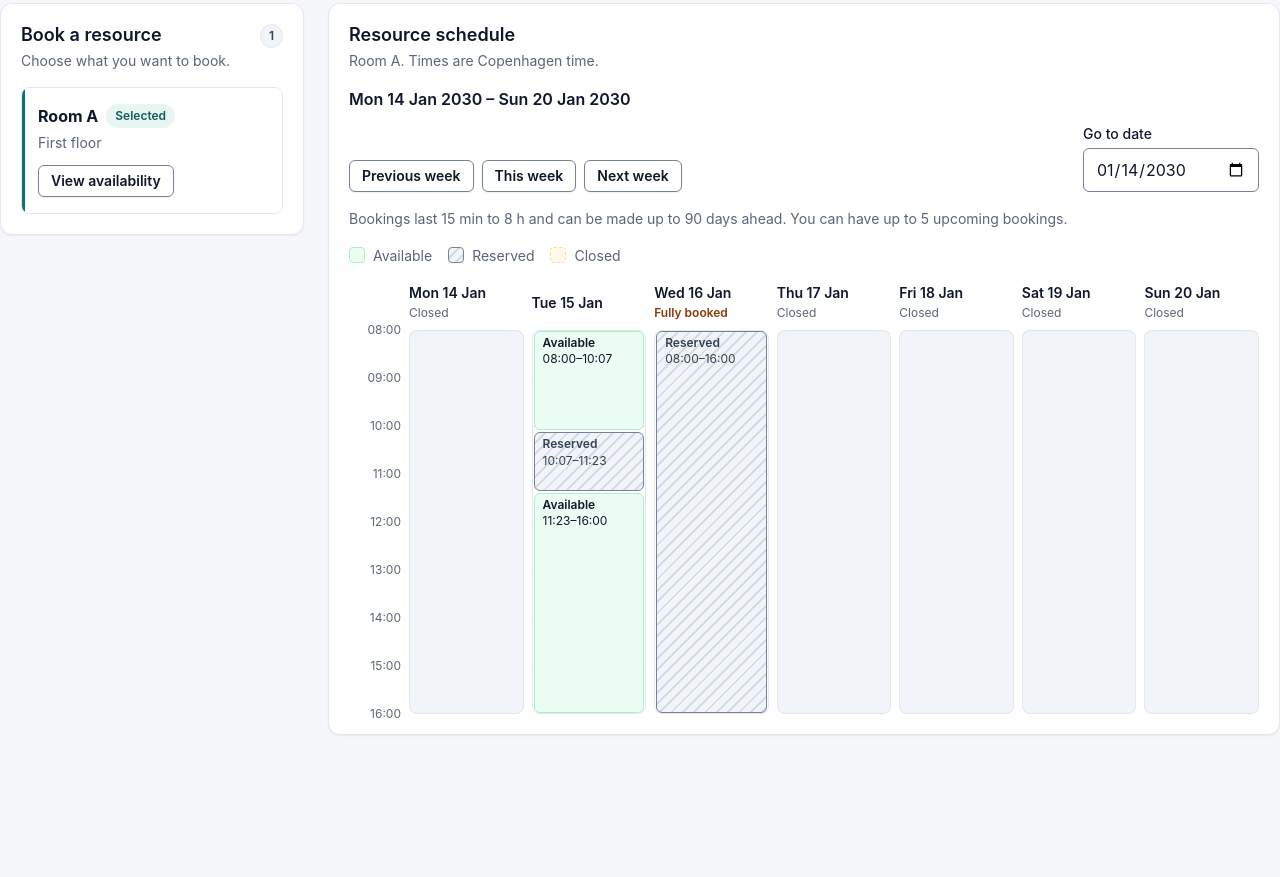
Test: BookingPage calendar › books a start and end chosen in 15-minute steps inside the free time
The width and height of the screenshot is (1280, 877).
Click the button with aria-label "Available Tue 15 Jan 2030, 08:00–10:07. Choose a time".
click(589, 380)  # box [534,331,644,430]
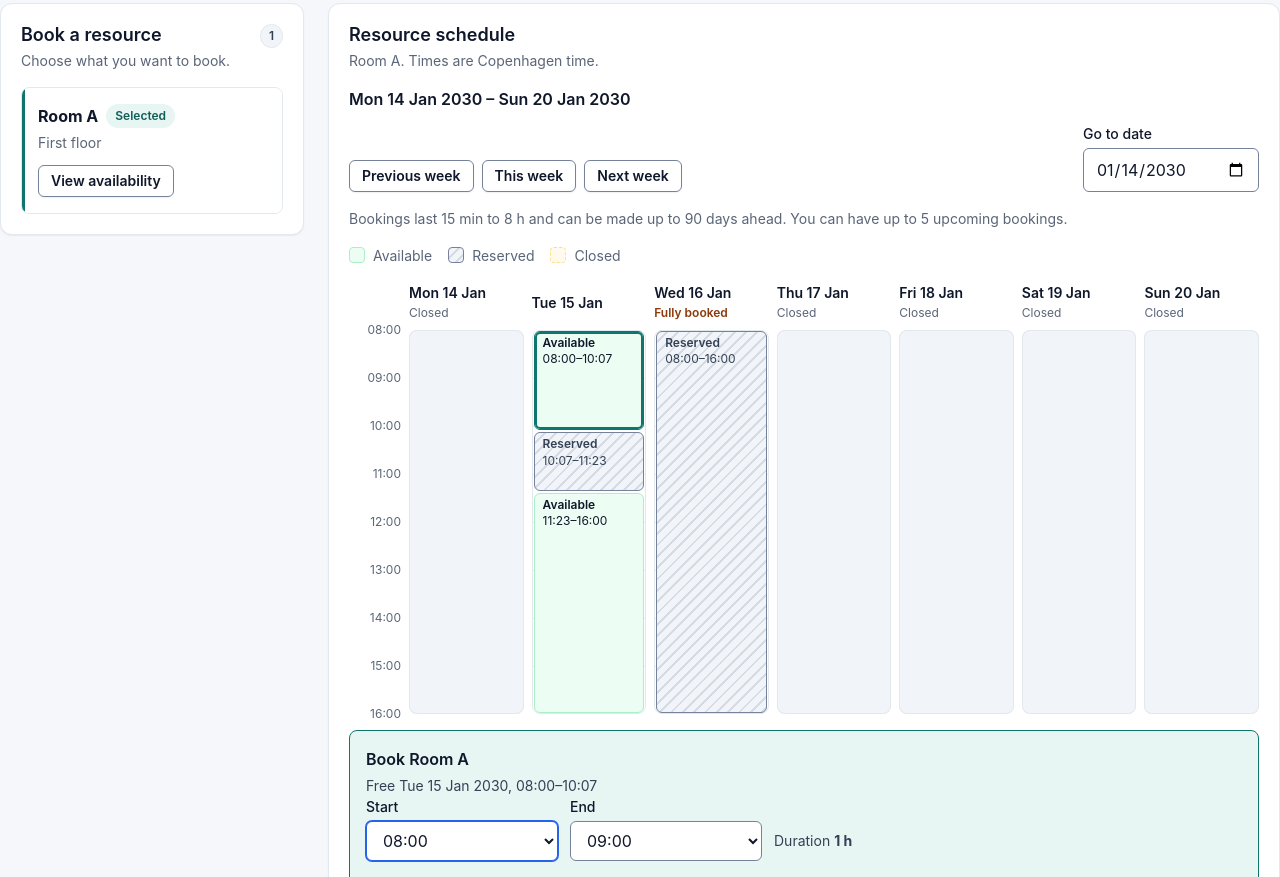
Result: the element "Book Room A Free Tue 15 Jan 2030, 08:00–10:07" is shown at [366,749,852,861]
Result: the dropdown labelled "End" shows "09:00" at [570,821,762,861]
Select "08:30" in the dropdown labelled "Start" at (462, 841), box [366,821,558,861]
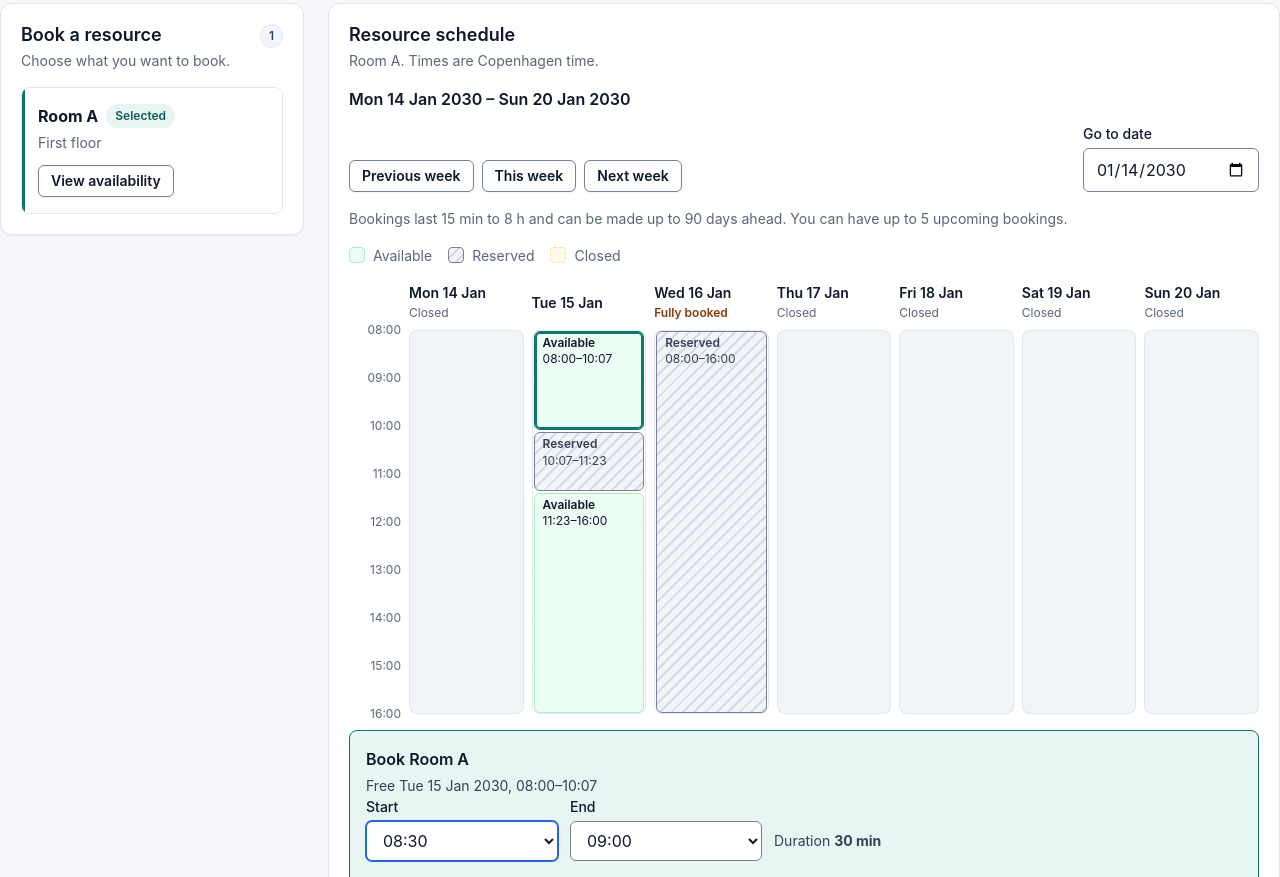
Select "10:07" in the dropdown labelled "End" at (666, 841), box [570,821,762,861]
(page scrolled)
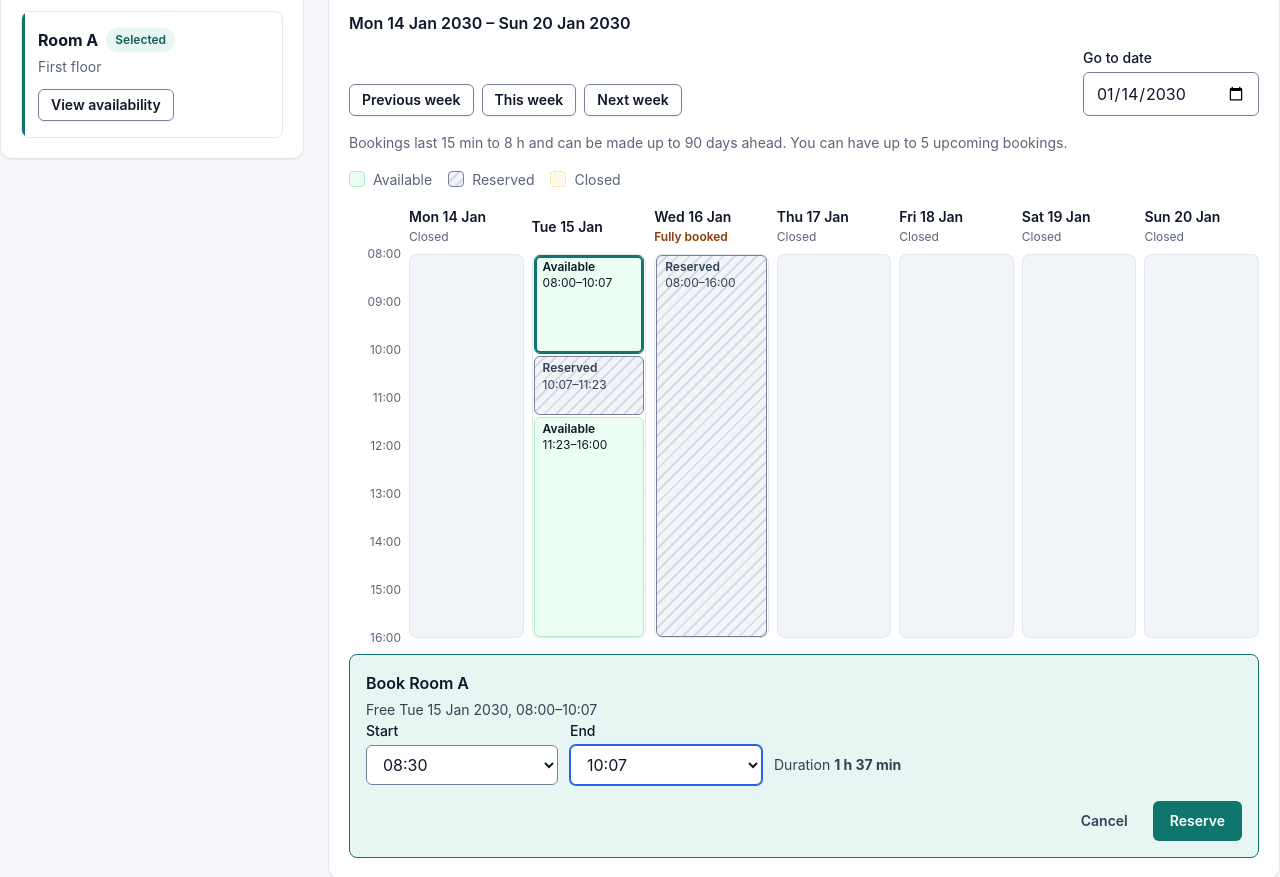
Result: the text "1 h 37 min" is shown at [834,754,901,775]
Click the button "Reserve".
click(1197, 821)  # box [1153,801,1242,841]
(page scrolled)
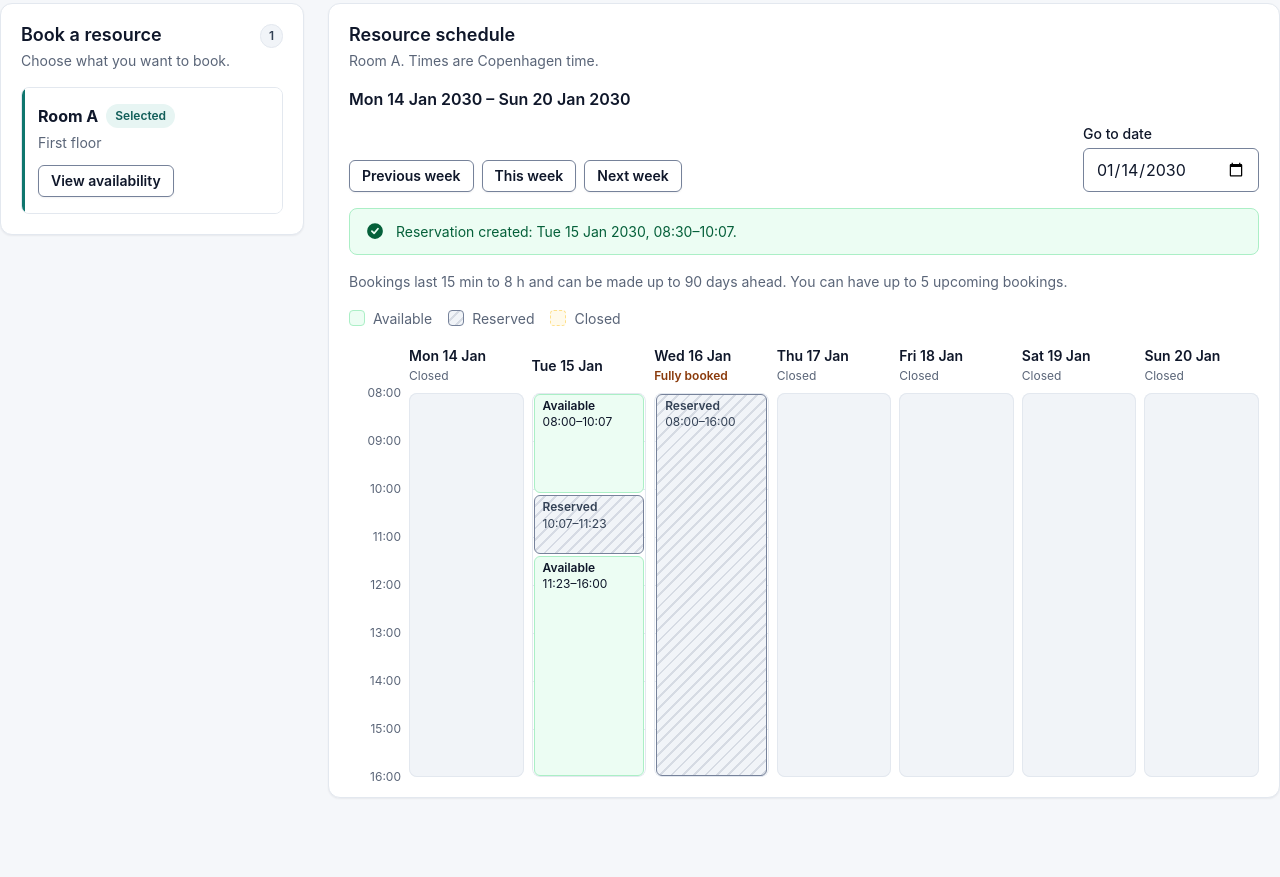
Result: the message reads "Reservation created: Tue 15 Jan 2030, 08:30–10:07." at [396,223,737,240]
Result: the label "Start" is gone
